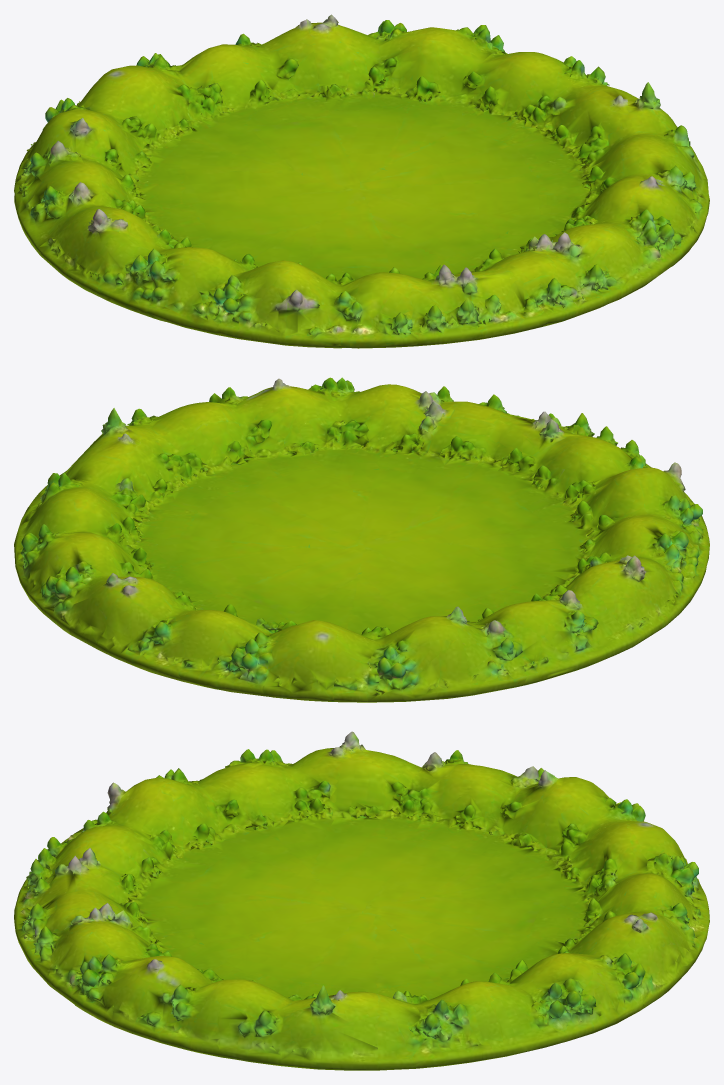
The model's file is Sunny meadow base.glb.
3 views of the same model, one above another, from view 1: azimuth 30°, elevation 25°; view 2: azimuth 150°, elevation 25°; view 3: azimuth 270°, elevation 25° (orthographic).
Size of the model in its own units: 1.9 by 0.2164 by 1.9.
Materials: 1 (1 with a texture image).
